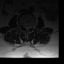CCS_normal: (26, 24, 28, 31)
LFS_stenosis: (30, 24, 31, 30)
LLS_normal: (28, 24, 30, 30)
RFS_stenosis: (22, 24, 24, 29)
RLS_normal: (24, 24, 26, 30)
